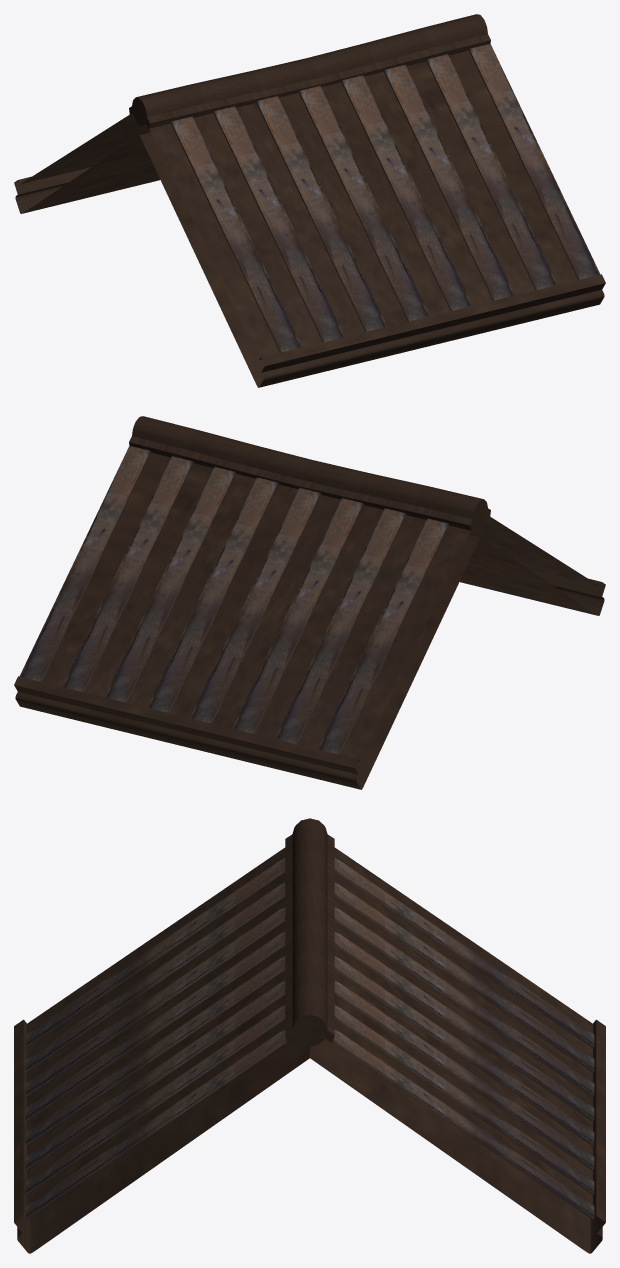
File: OutdoorArchitecture_Roof01_Planks01_Mid_BShortt.fbx
3 renders of one model, top to bottom at view 1: azimuth 30°, elevation 25°; view 2: azimuth 150°, elevation 25°; view 3: azimuth 270°, elevation 25°, orthographic. The views are drawn at different scales.
Parts seen in each view (by area): view 1: OutdoorArchitecture_Roof01_Planks01_Mid_BShortt; view 2: OutdoorArchitecture_Roof01_Planks01_Mid_BShortt; view 3: OutdoorArchitecture_Roof01_Planks01_Mid_BShortt.
Part boxes in pixels (left/top/right/bottom): OutdoorArchitecture_Roof01_Planks01_Mid_BShortt: left=14, top=14, right=605, bottom=387; OutdoorArchitecture_Roof01_Planks01_Mid_BShortt: left=14, top=416, right=605, bottom=789; OutdoorArchitecture_Roof01_Planks01_Mid_BShortt: left=14, top=818, right=605, bottom=1253.
Bounding box in the file's own units: 300 × 170 × 382.
